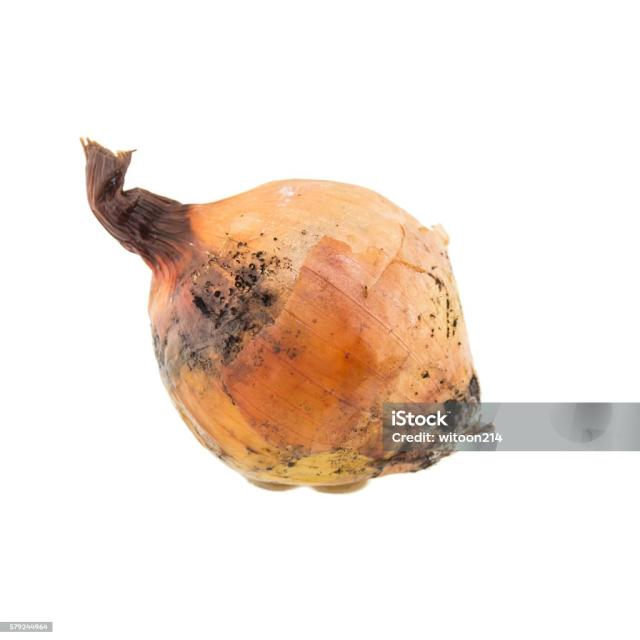rotten: (45, 109, 486, 499)
